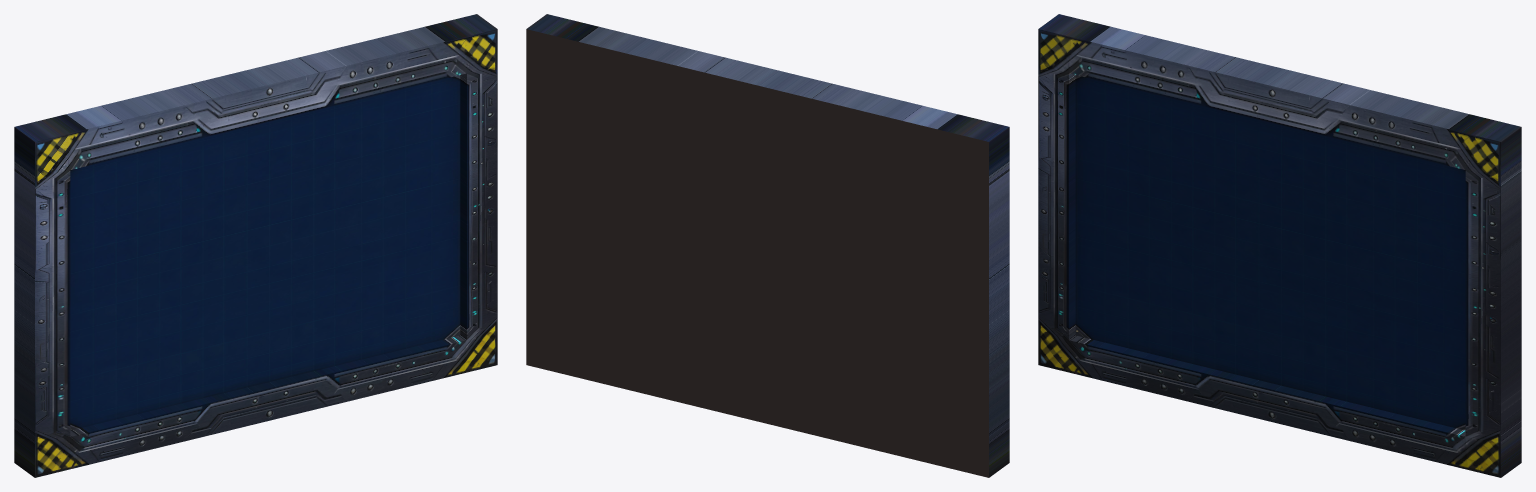
The model's file is panel_level.glb.
The picture shows the model from 3 angles, left to right: view 1: azimuth 30°, elevation 25°; view 2: azimuth 150°, elevation 25°; view 3: azimuth 330°, elevation 25°; orthographic projection.
Visible parts, largest first — view 1: panel_level; view 2: panel_level; view 3: panel_level.
Boxes of the visible parts, left/top/right/bottom form: panel_level: left=14, top=14, right=497, bottom=477; panel_level: left=526, top=14, right=1009, bottom=477; panel_level: left=1038, top=14, right=1521, bottom=477.
Size of the model in its own units: 0.49 by 0.34 by 0.042.
1 material, 1 textured.
